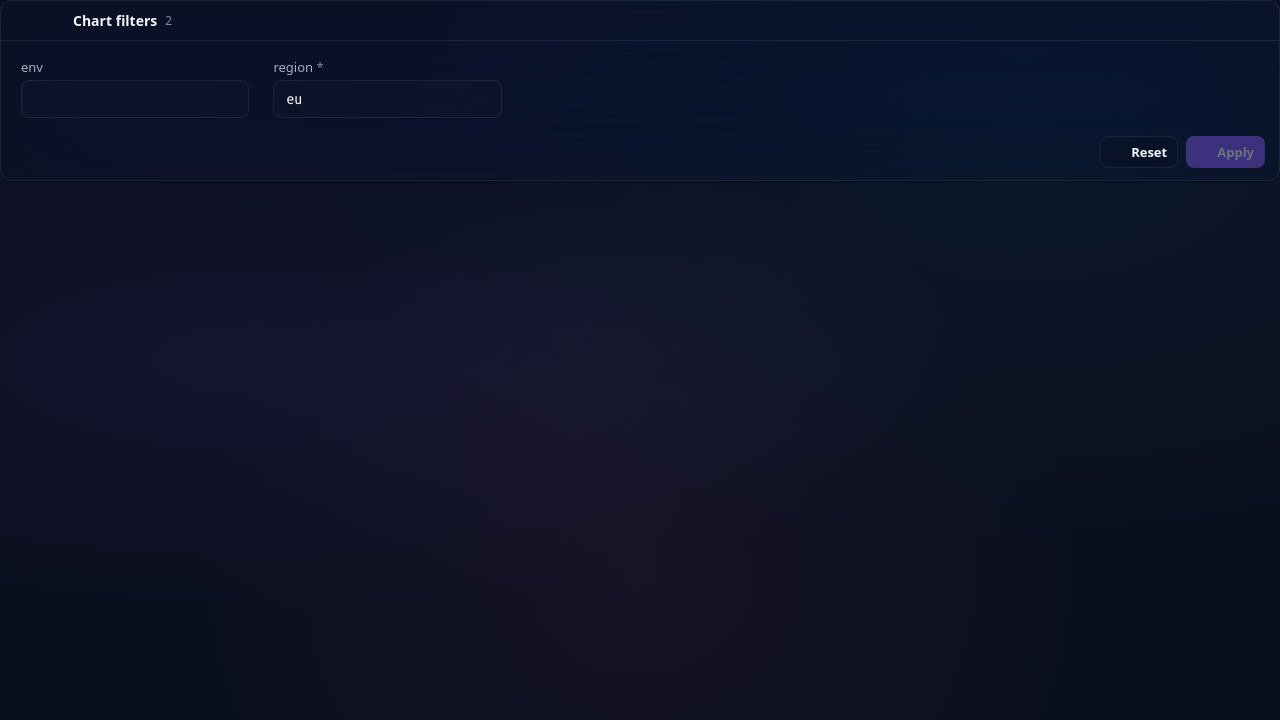
Scenario: required and empty › does not block Apply - the chart explains itself instead
Clear the field labelled "region *" at [388, 99], box [273, 80, 502, 118]
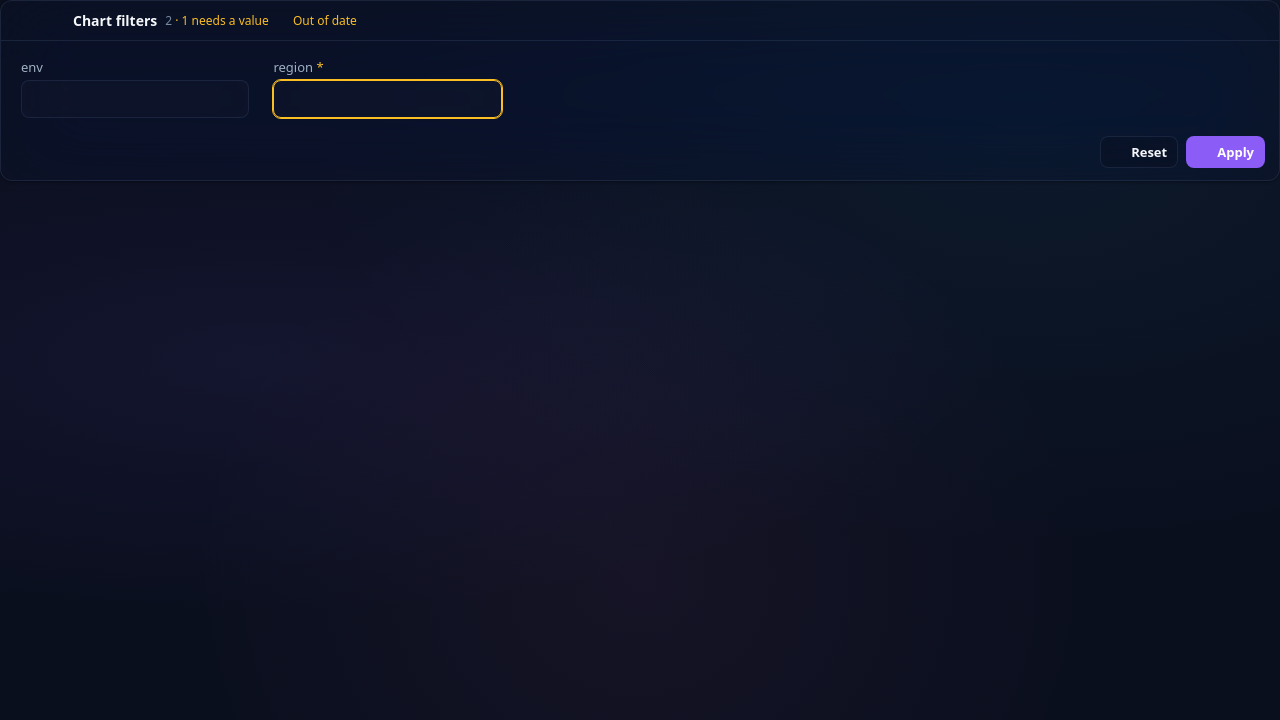
Expected: the button "Apply" is enabled, [1186, 136, 1265, 168]
